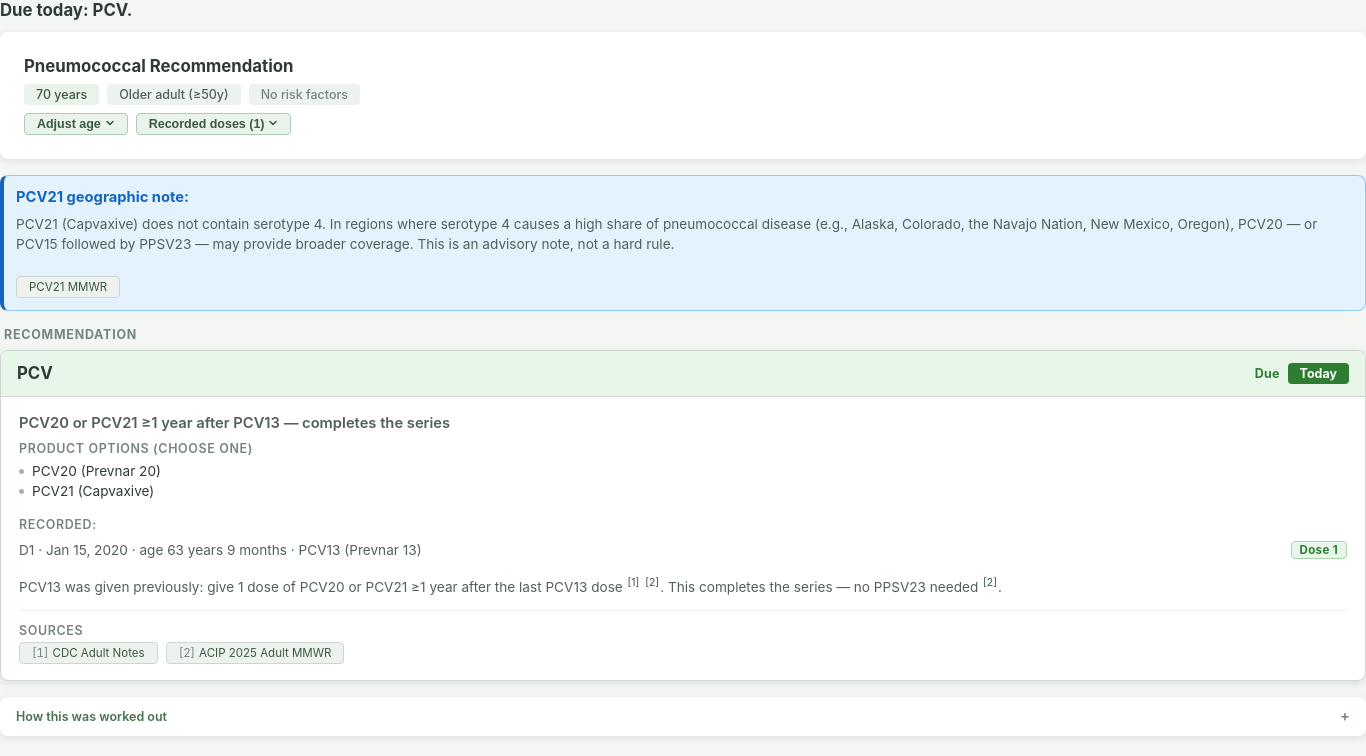
Test: P6-6 — a toggle keeps its label when open › both header toggles report state through aria-expanded
The image size is (1366, 756).
Click the button "Adjust age". click: (76, 124)
box: [24,113,128,135]
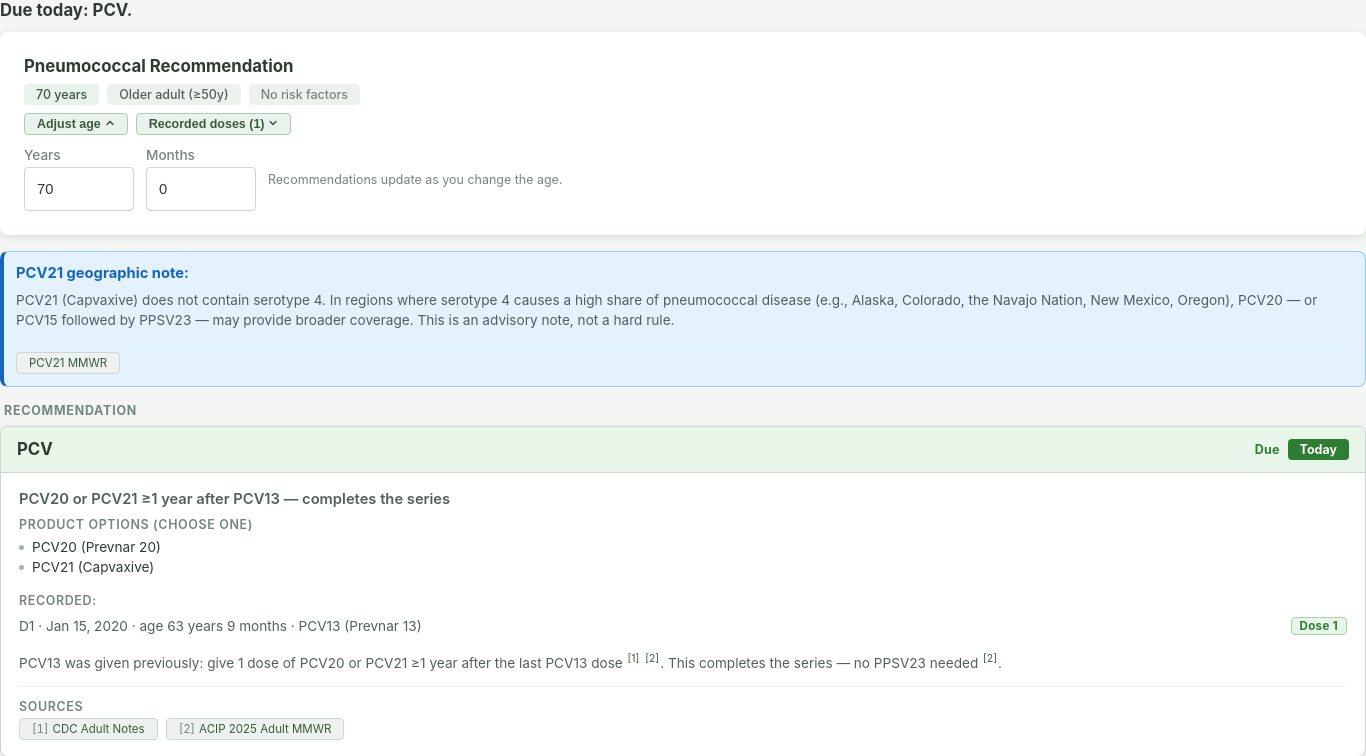
Result: the button "Adjust age" is expanded at [24,113,128,135]
Click the button "Recorded doses (1)". click: (214, 124)
box: [136,113,292,135]
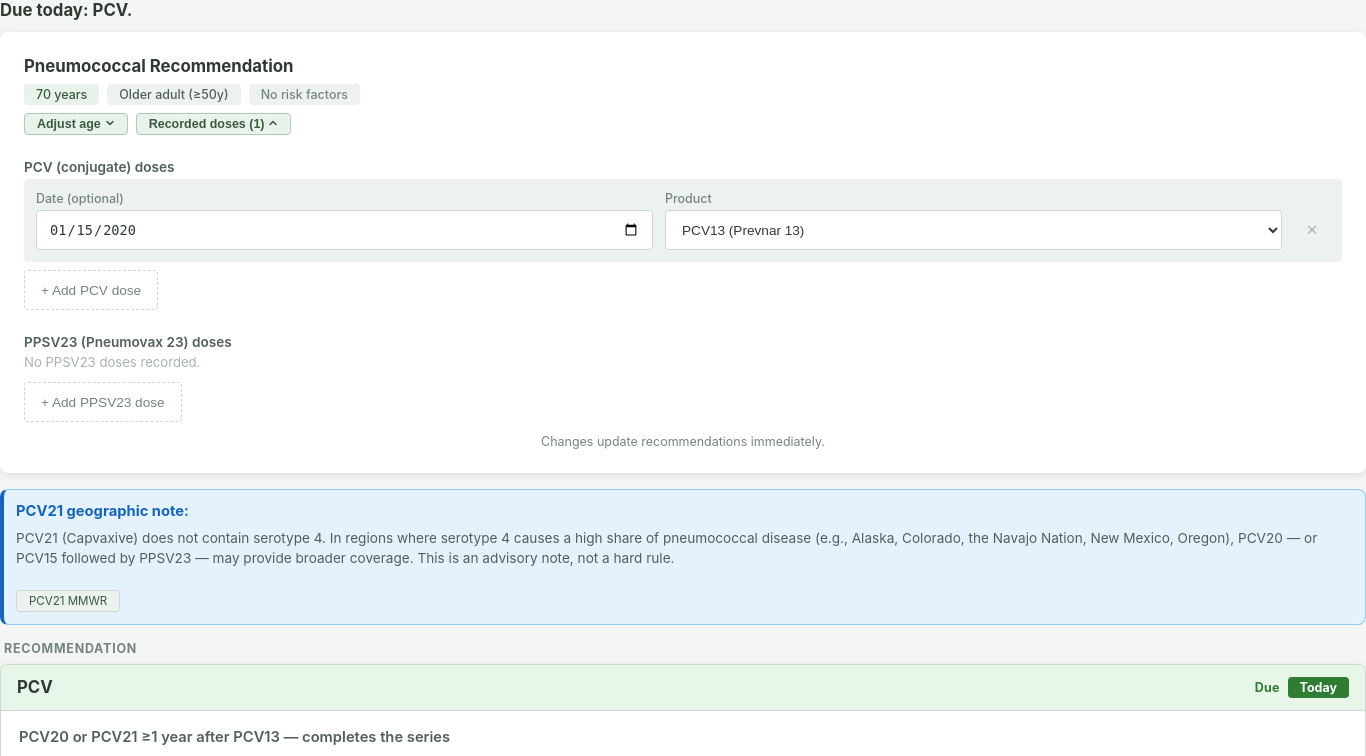
Result: the button "Recorded doses (1)" is expanded at [136,113,292,135]
